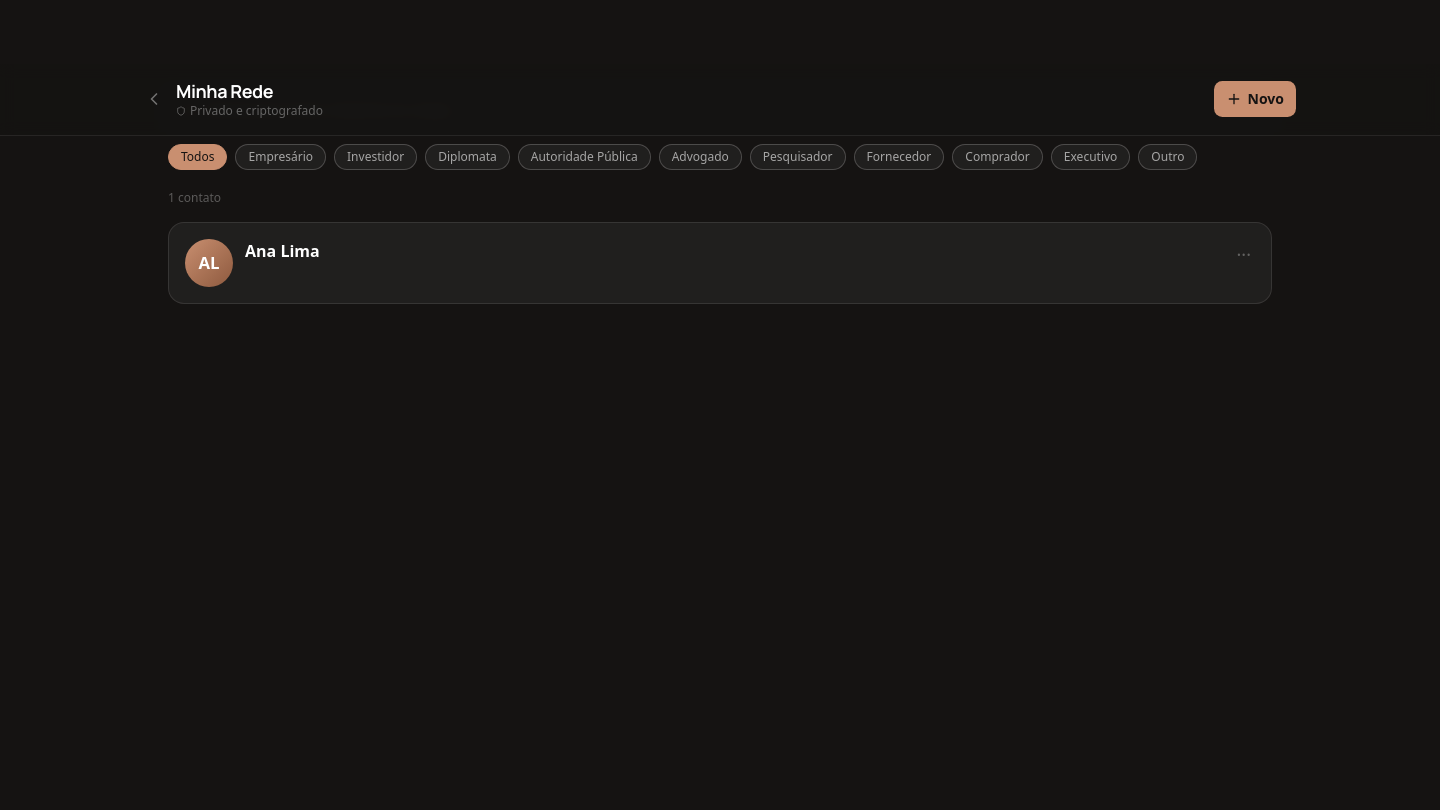
Test: Network — o detalhe lê o contato fresco e Editar abre com ele › o perfil aberto mostra o telefone que só existe no network.get, consultado pelo id do contato
This screenshot has width=1440, height=810.
Click the text "Ana Lima" at coordinates (282, 250), box [245,238,320,262]
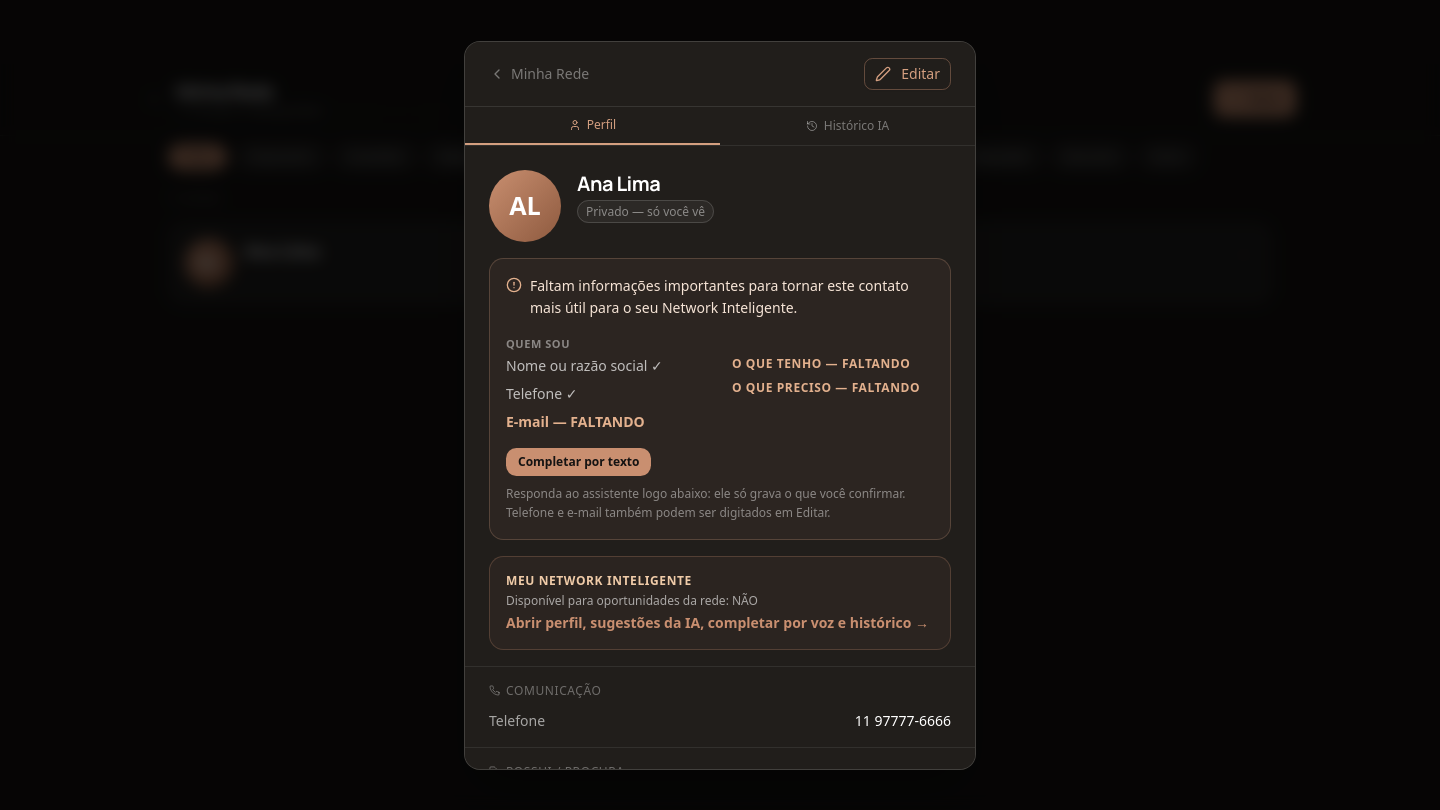
Expected: the text "Telefone" is shown, [489,711,545,731]
Expected: the text "11 97777-6666" is shown, [855,711,951,731]
